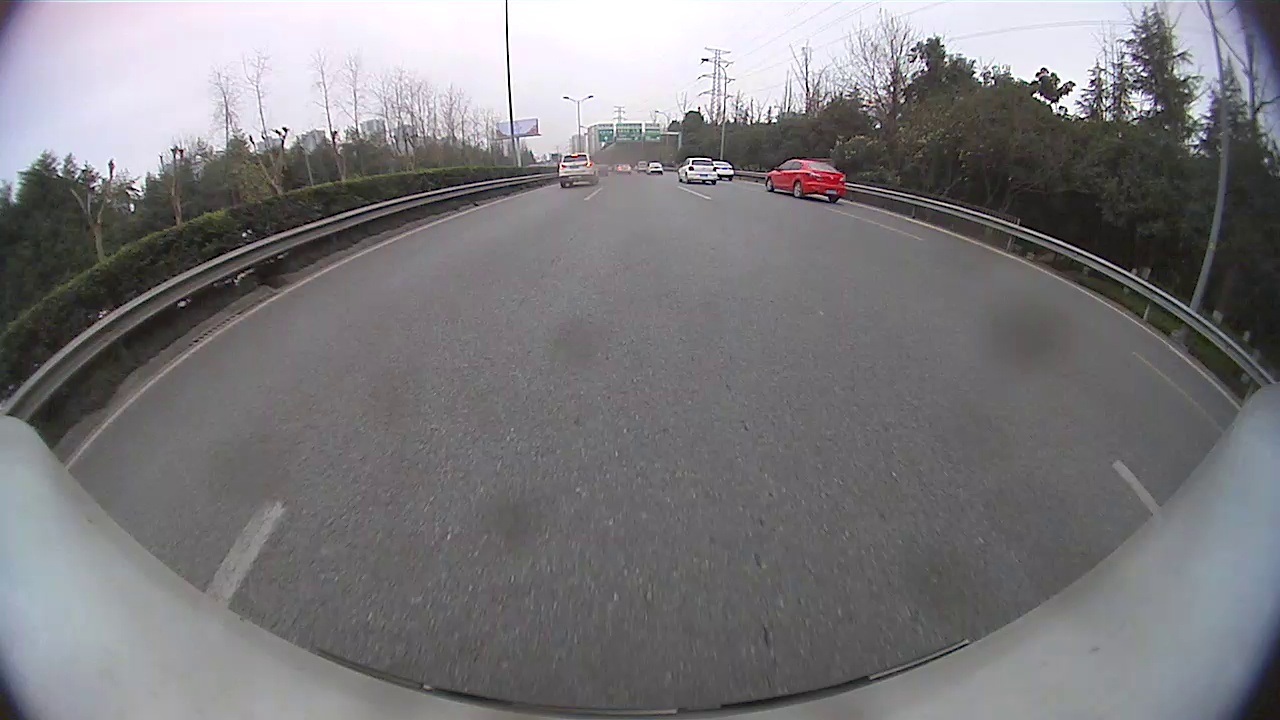car: (765, 156, 846, 203), (559, 152, 601, 187), (677, 157, 717, 185), (713, 162, 735, 182)
front: (765, 180, 774, 193)
rear: (793, 184, 804, 200)
